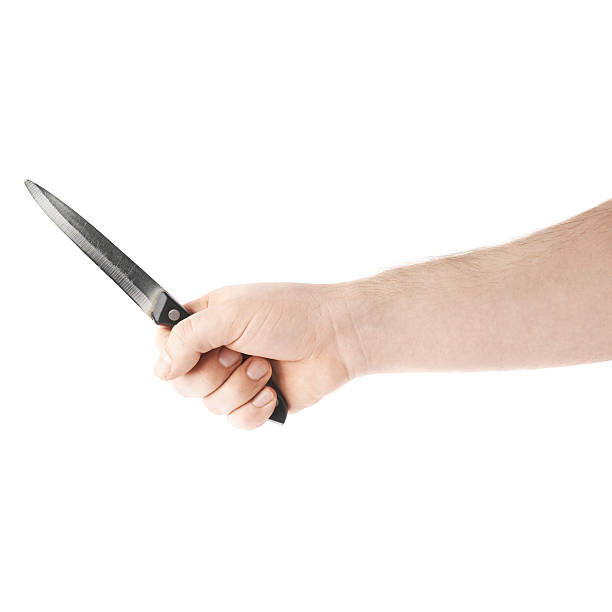knife: (24, 176, 290, 423)
